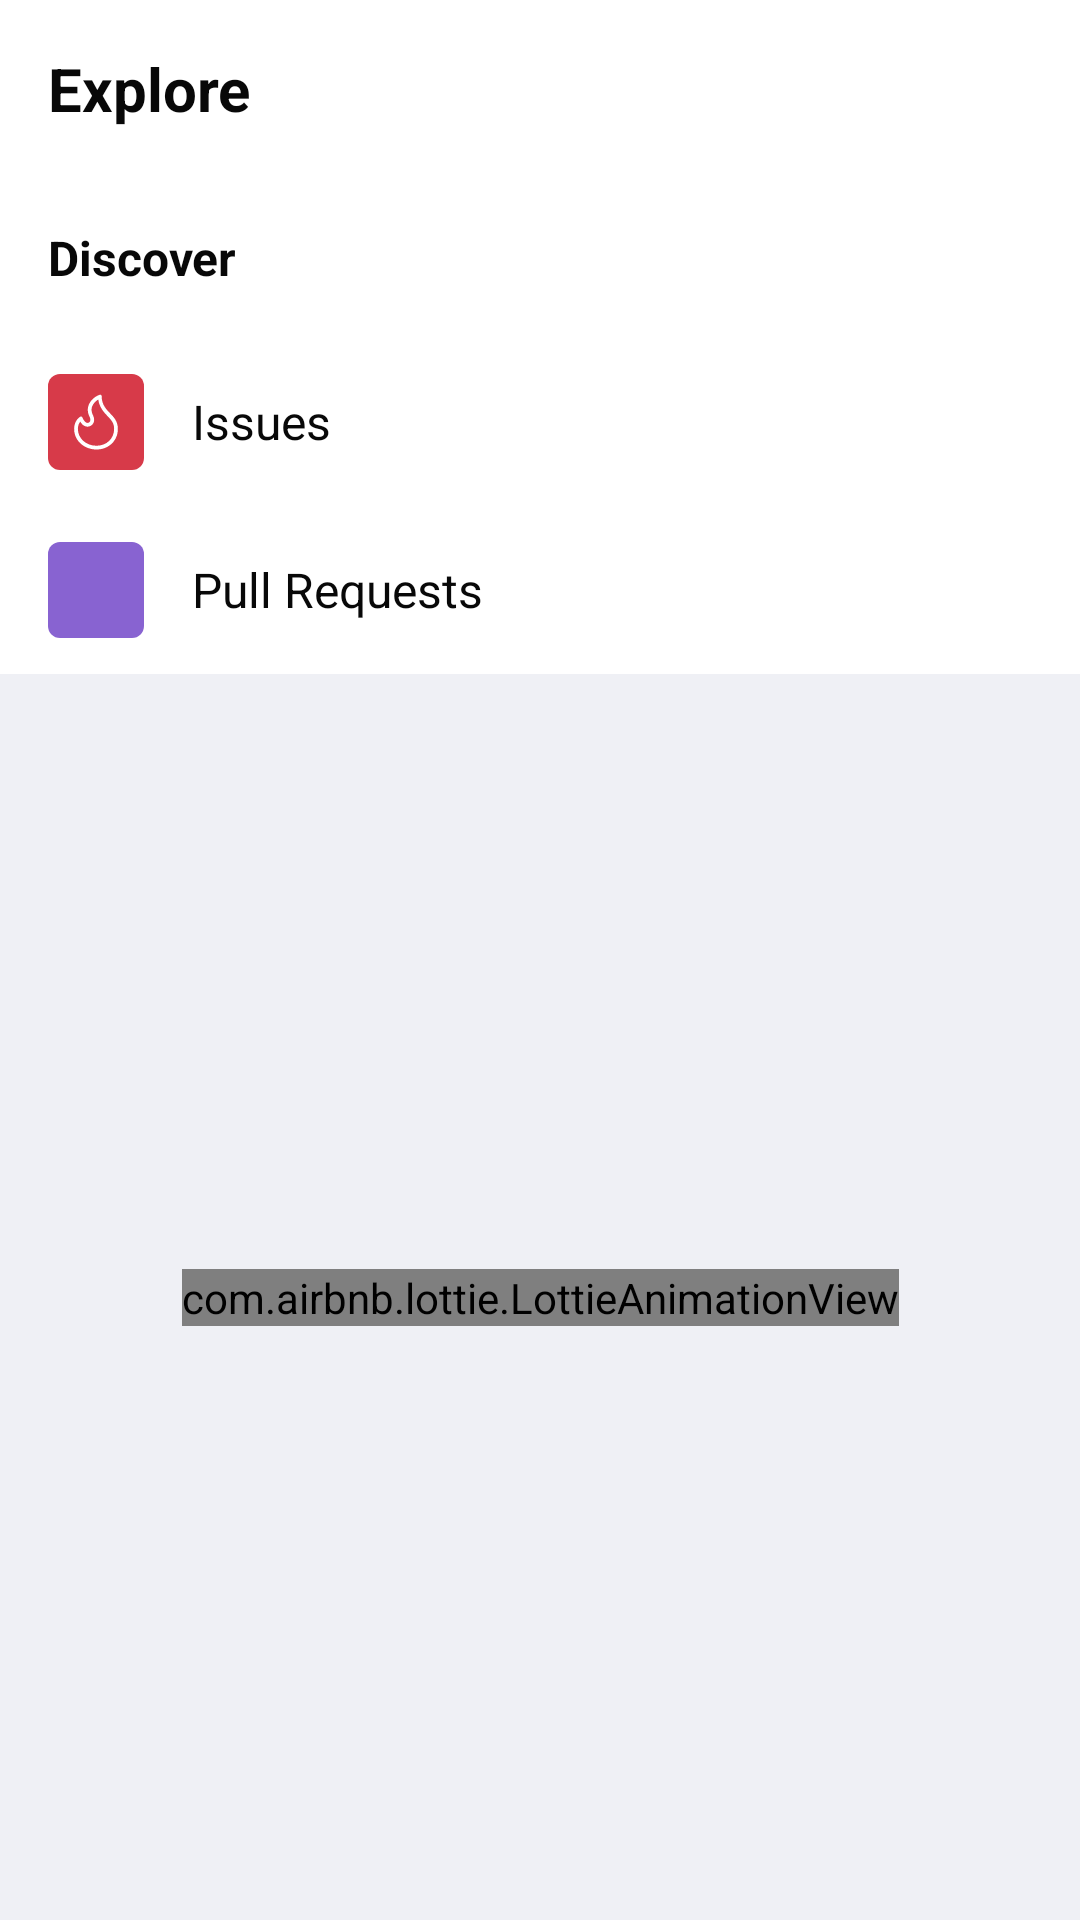

Locate icon controls on the screen. Image size 1080x1920, boxes as (left=x1, top=y1, right=x2, bottom=y2).
fire: (left=48, top=374, right=144, bottom=470)
